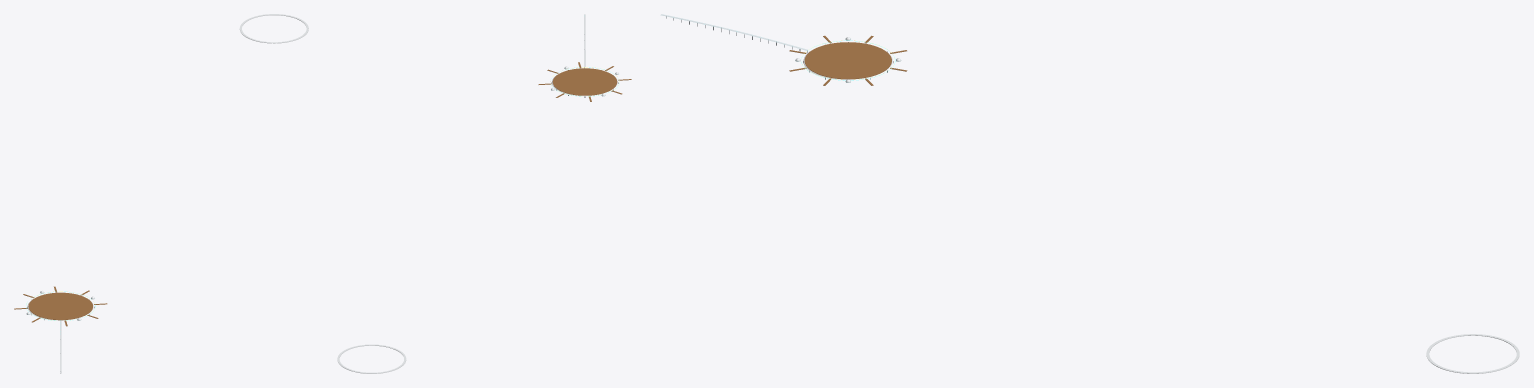
File: shaddai_ocean_platform_v01.glb
3 views of the same model, side by side, from view 1: azimuth 30°, elevation 25°; view 2: azimuth 210°, elevation 25°; view 3: azimuth 270°, elevation 25° (orthographic). The views are drawn at different scales.
Parts seen in each view (by area): view 1: ocean_platform; view 2: ocean_platform; view 3: ocean_platform.
Part boxes in pixels (x1=…): ocean_platform: x1=14, y1=14, x2=308, y2=373; ocean_platform: x1=337, y1=14, x2=631, y2=373; ocean_platform: x1=660, y1=14, x2=1519, y2=373.
Bounding box in the file's own units: 2839 × 17.7 × 2872.
